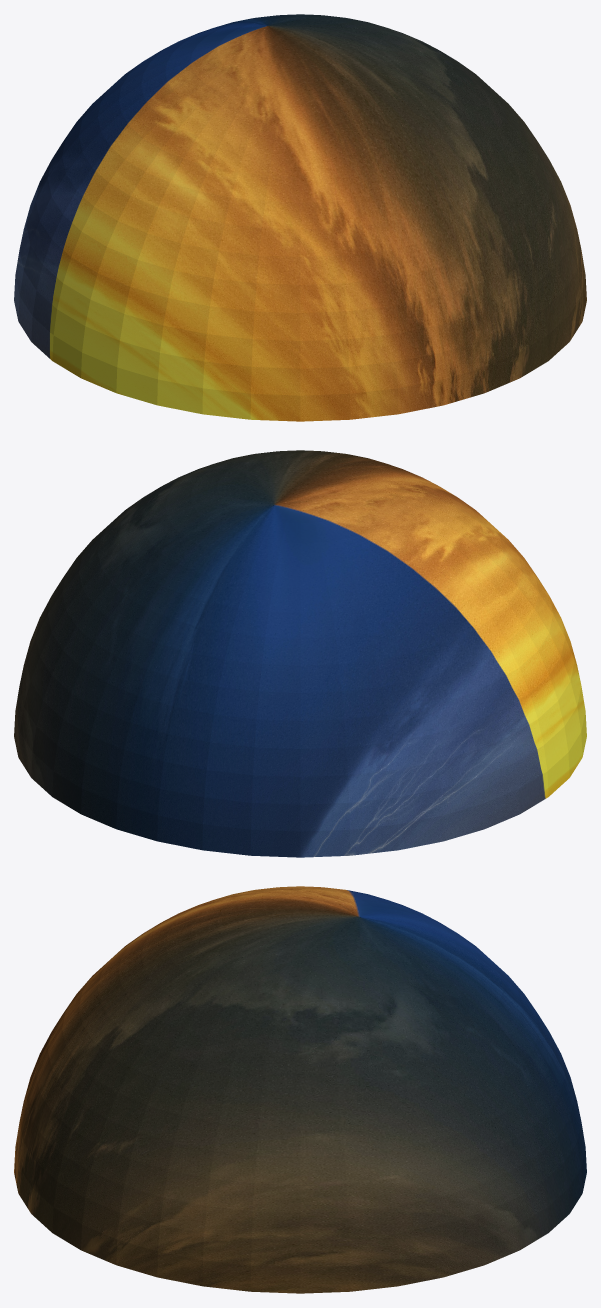
Rendered from kyaaome.fbx.
3 views of the same model, one above another, from view 1: azimuth 30°, elevation 25°; view 2: azimuth 150°, elevation 25°; view 3: azimuth 270°, elevation 25° (orthographic).
Parts seen in each view (by area): view 1: Sphere.001; view 2: Sphere.001; view 3: Sphere.001.
Boxes of the visible parts, bbox=[...] form: Sphere.001: bbox=[14, 14, 586, 421]; Sphere.001: bbox=[14, 450, 586, 857]; Sphere.001: bbox=[14, 886, 586, 1293].
Bounding box in the file's own units: 154 × 77.09 × 154.
